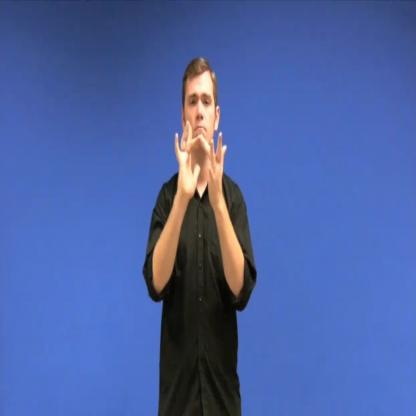Internet: (170, 110, 235, 224)
